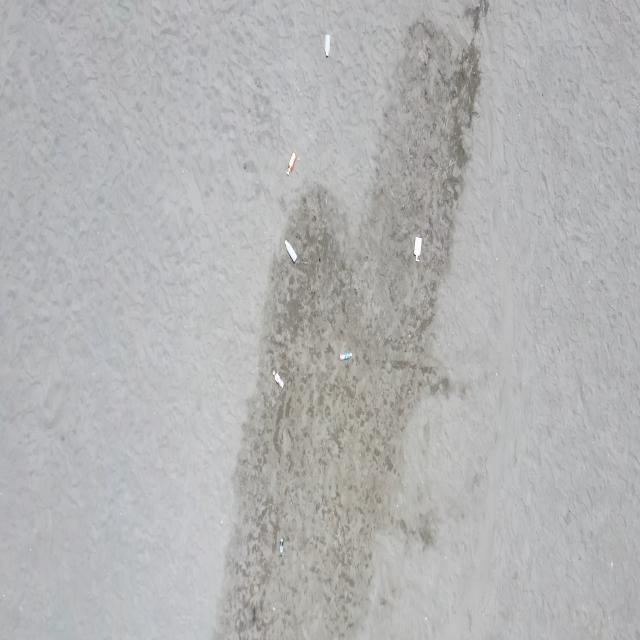plastic-bottle: (284, 239, 298, 265), (286, 150, 296, 176), (323, 31, 332, 58), (272, 370, 284, 389), (414, 235, 422, 262), (339, 351, 352, 363), (279, 538, 284, 557)
